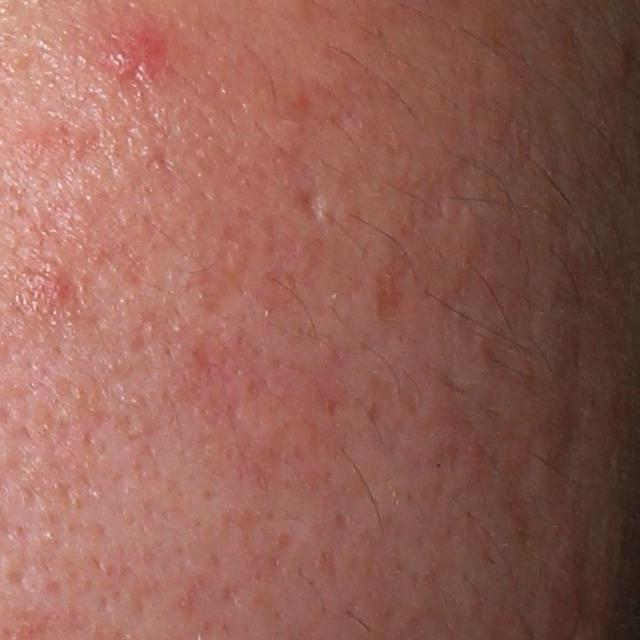atrophic_scar: (292, 187, 322, 221)
papule: (105, 17, 172, 84)
